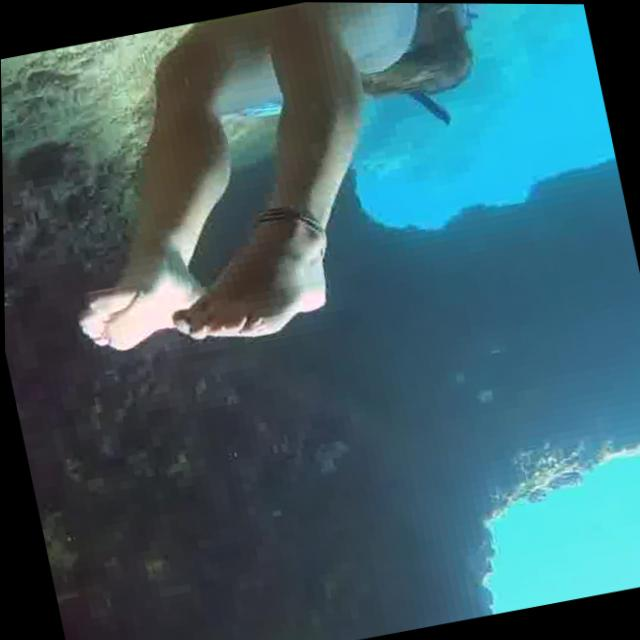human: (12, 0, 582, 390)
